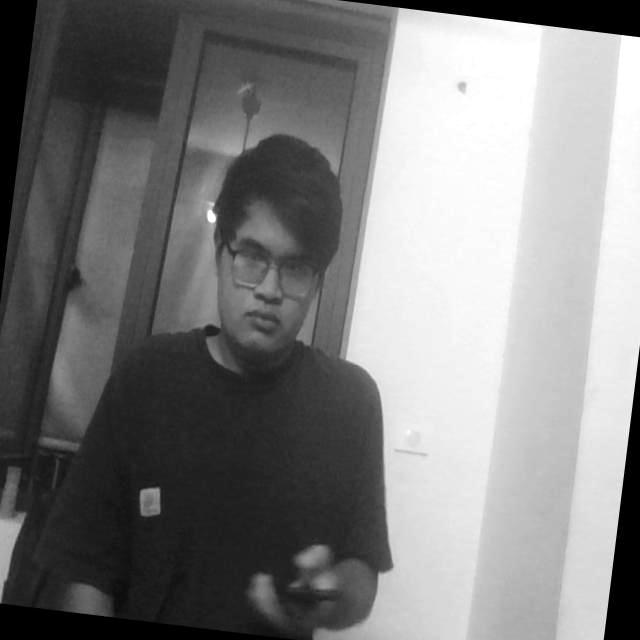phone: (250, 546, 353, 633)
